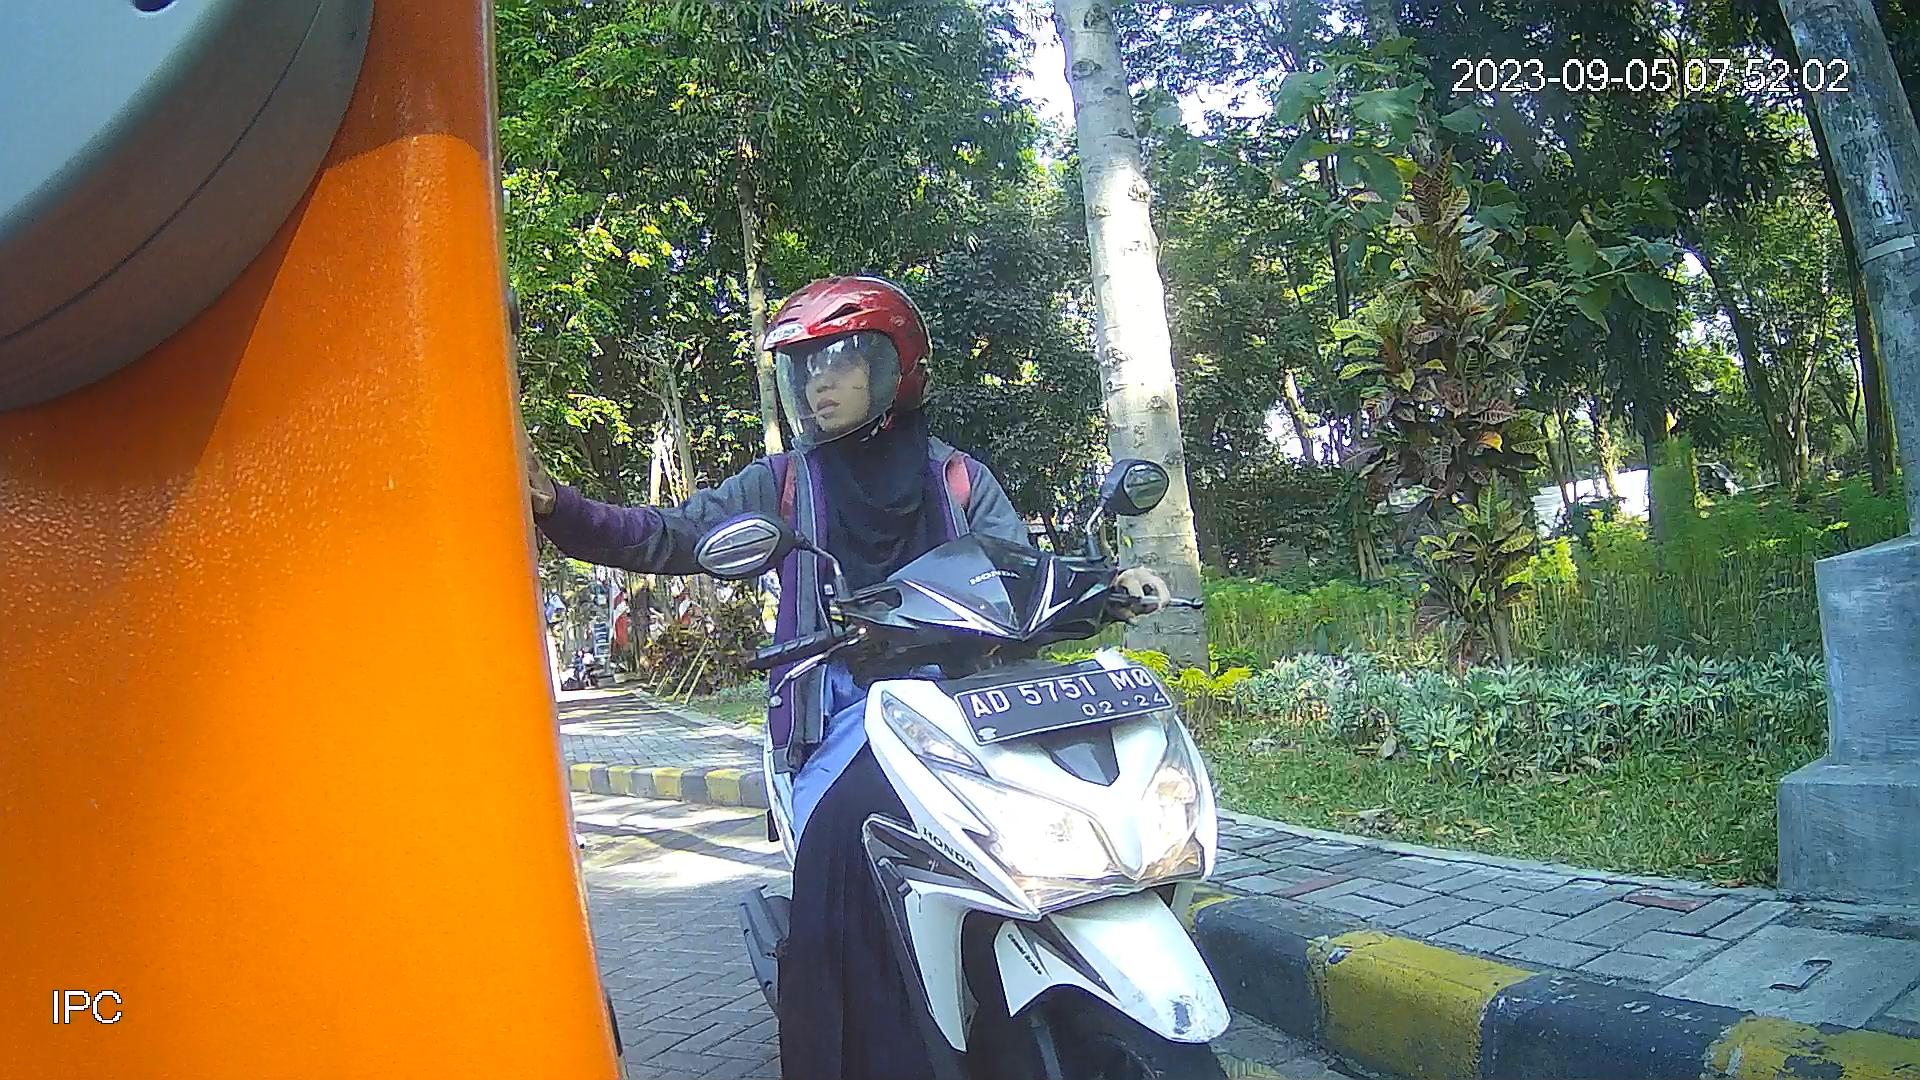plat: (951, 661, 1178, 746)
